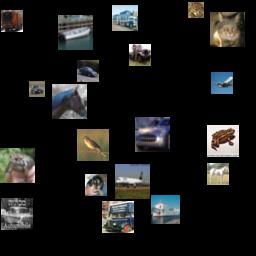airplane: (115, 164, 150, 199), (211, 72, 233, 94)
automobile: (135, 117, 170, 152), (1, 198, 33, 230), (77, 60, 99, 82), (29, 81, 45, 97)
bird: (77, 129, 109, 161)
cat: (210, 12, 245, 47)
dog: (85, 174, 107, 196)
frog: (0, 148, 35, 183), (207, 125, 239, 157), (188, 2, 204, 18)
ship: (58, 15, 93, 50), (151, 195, 180, 224)
truck: (102, 201, 134, 233), (112, 5, 138, 31), (129, 44, 151, 66), (1, 10, 23, 32)
